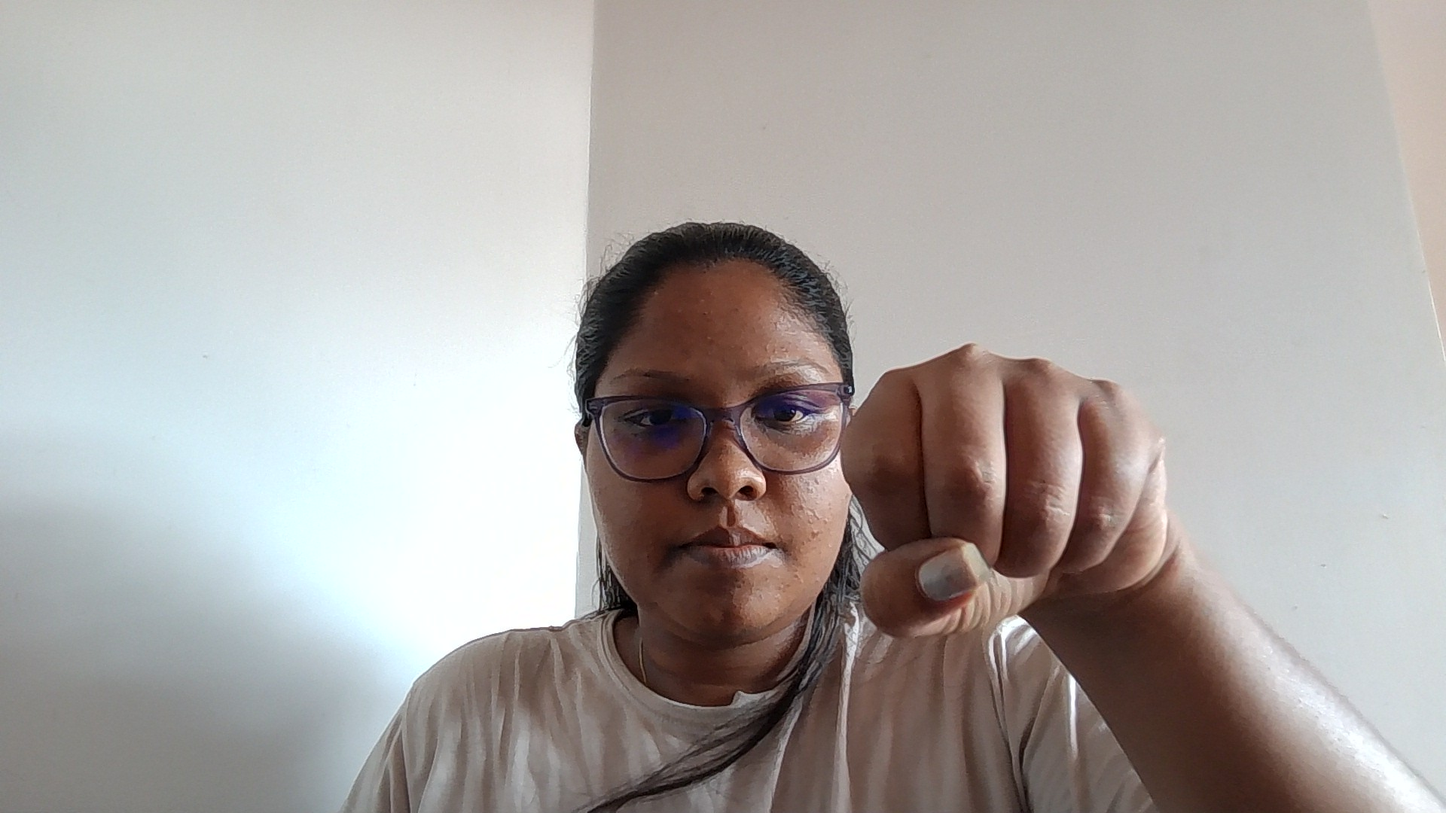Yes: (830, 301, 1227, 708)
